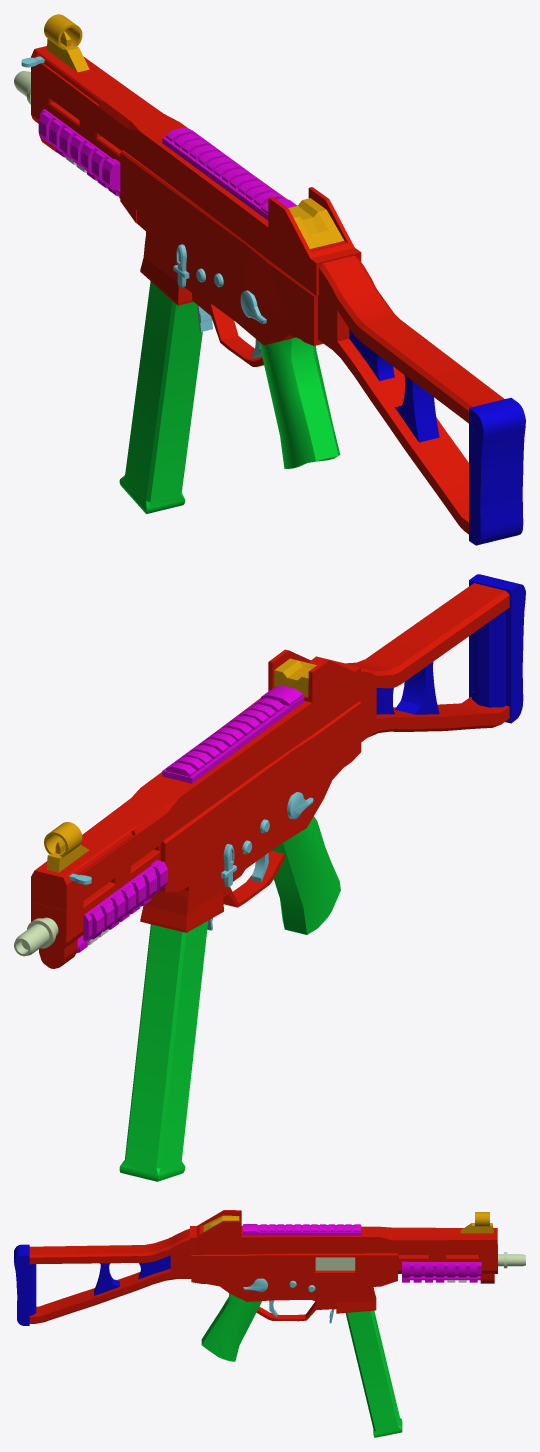
The model's file is UMP45.fbx.
3 views of the same model, one above another, from view 1: azimuth 30°, elevation 25°; view 2: azimuth 150°, elevation 25°; view 3: azimuth 270°, elevation 25° (orthographic). The views are drawn at different scales.
Parts seen in each view (by area): view 1: Cube.007; view 2: Cube.007; view 3: Cube.007.
Boxes of the visible parts, <box> form: Cube.007: <box>14,14,525,545</box>; Cube.007: <box>14,574,525,1181</box>; Cube.007: <box>14,1210,525,1437</box>.
Size of the model in its own units: 42.34 by 266 by 559.
